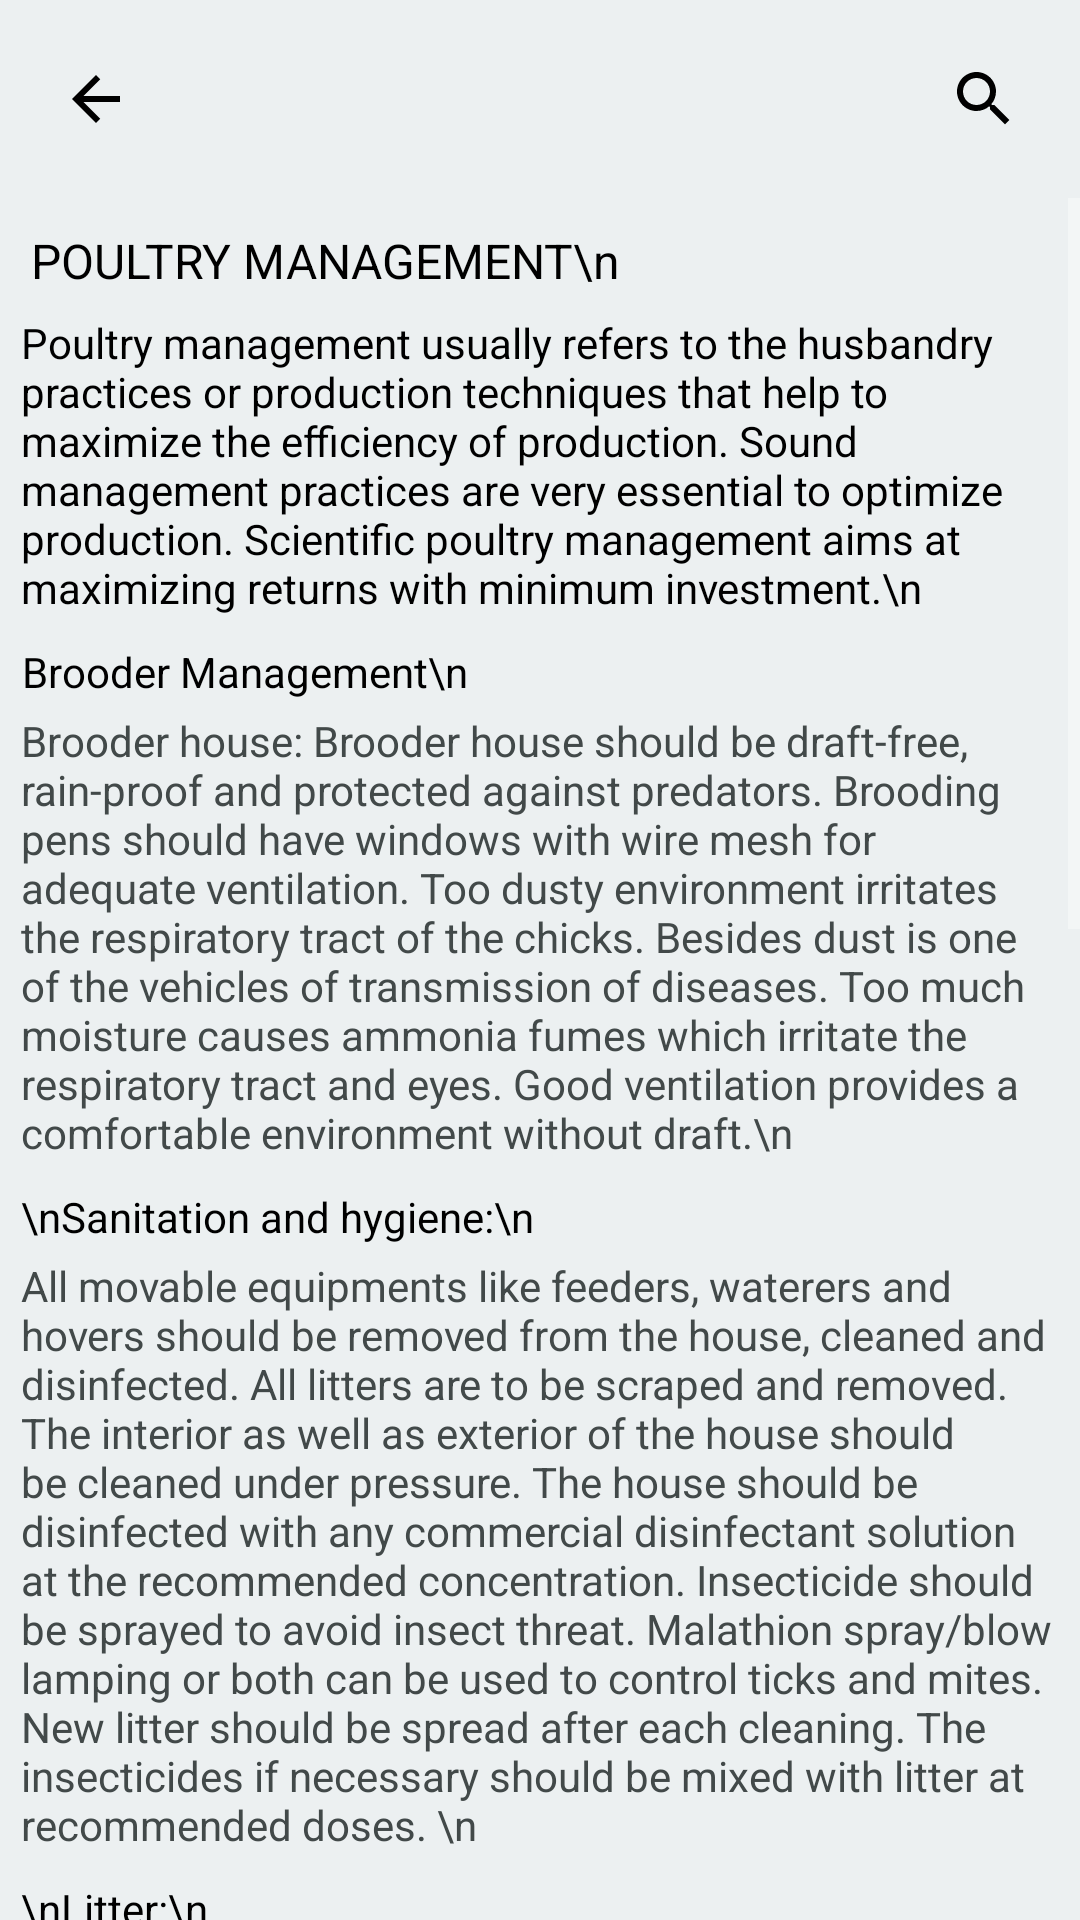

Icon click points for this 1080*1920 phone screenshot, format (x=x, y=y):
arrow back: (x=96, y=99)
search: (x=983, y=98)
